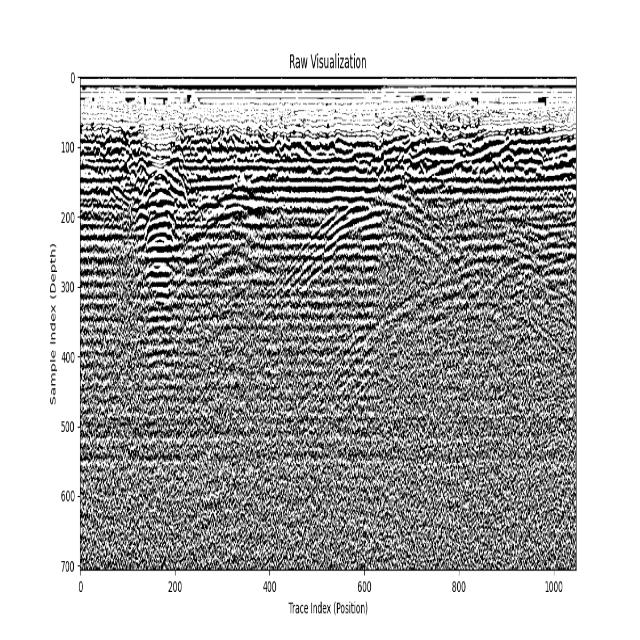anomaly: (193, 195, 576, 397), (126, 148, 194, 240)
